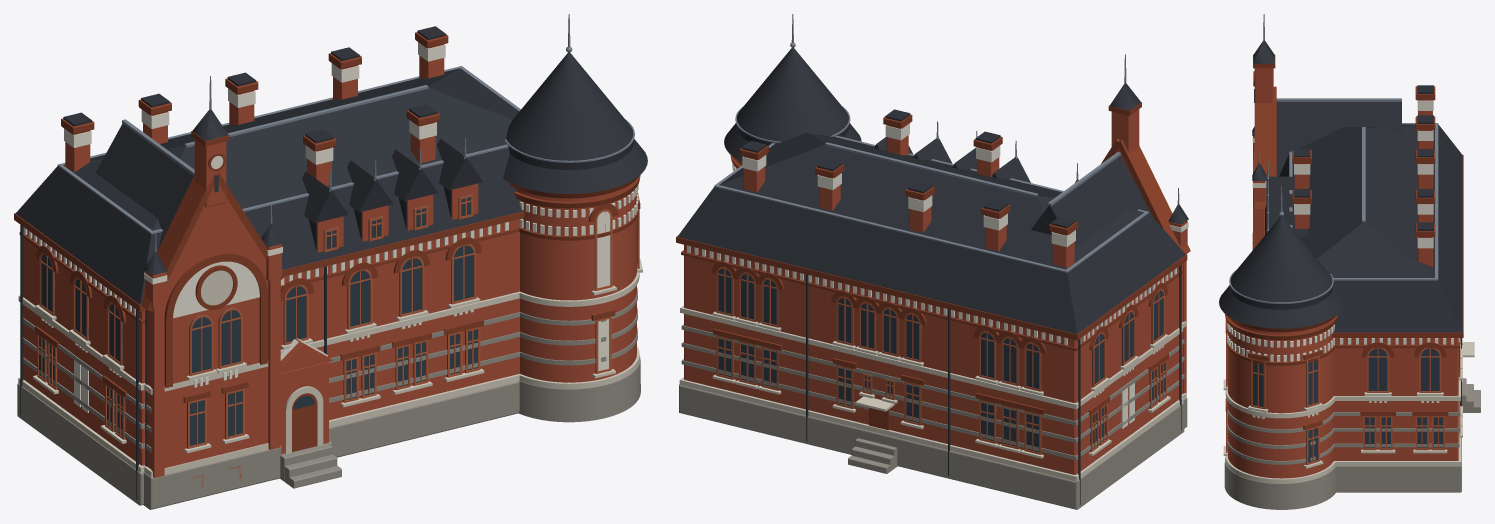
File: Lyk_museo.glb
3 views of the same model, side by side, from view 1: azimuth 30°, elevation 25°; view 2: azimuth 150°, elevation 25°; view 3: azimuth 270°, elevation 25° (orthographic). The views are drawn at different scales.
Visible parts, largest first — view 1: katto_liuske, seinat_tiili, paaty_tiili, perusta_graniitti, torni_tiili, tornin_katto_liuske, ikkunankarmit_katto_punainen, ikkunalasit_lasi, vyohykkeet_rappaus, koristetiilet_tiili_tumma, raystas_tiili_tumma, kattoikkunat_liuske (+20 smaller); view 2: katto_liuske, seinat_tiili, perusta_graniitti, ikkunalasit_lasi, ikkunankarmit_katto_punainen, tornin_katto_liuske, vyohykkeet_rappaus, vyohykkeet_graniitti, raystas_tiili_tumma, koristetiilet_tiili_tumma, kattopellit_katto_harmaa, savupiiput_tiili (+12 smaller); view 3: katto_liuske, torni_tiili, seinat_tiili, tornin_katto_liuske, ikkunalasit_lasi, perusta_graniitti, ikkunankarmit_katto_punainen, raystas_tiili_tumma, torni_graniitti, vyohykkeet_rappaus, vyohykkeet_graniitti, kattopellit_katto_harmaa (+14 smaller).
Boxes of the visible parts, <box> form: katto_liuske: <box>15,68,523,304</box>; seinat_tiili: <box>23,219,519,465</box>; paaty_tiili: <box>147,198,280,477</box>; perusta_graniitti: <box>17,381,519,509</box>; torni_tiili: <box>516,183,636,382</box>; tornin_katto_liuske: <box>503,52,647,193</box>; ikkunankarmit_katto_punainen: <box>37,194,639,488</box>; ikkunalasit_lasi: <box>39,194,638,448</box>; vyohykkeet_rappaus: <box>18,272,639,477</box>; koristetiilet_tiili_tumma: <box>35,193,640,402</box>; raystas_tiili_tumma: <box>14,175,640,323</box>; kattoikkunat_liuske: <box>302,138,483,250</box>; katto_liuske: <box>677,132,1185,334</box>; seinat_tiili: <box>684,244,1179,474</box>; perusta_graniitti: <box>679,384,1187,509</box>; ikkunalasit_lasi: <box>718,269,1165,452</box>; ikkunankarmit_katto_punainen: <box>716,267,1166,454</box>; tornin_katto_liuske: <box>724,47,861,161</box>; vyohykkeet_rappaus: <box>679,305,1186,481</box>; vyohykkeet_graniitti: <box>681,324,1184,460</box>; raystas_tiili_tumma: <box>676,154,1187,350</box>; koristetiilet_tiili_tumma: <box>711,261,1168,415</box>; kattopellit_katto_harmaa: <box>714,135,1149,272</box>; savupiiput_tiili: <box>743,125,1074,268</box>; katto_liuske: <box>1265,102,1462,332</box>; torni_tiili: <box>1227,320,1333,478</box>; seinat_tiili: <box>1333,338,1458,460</box>; tornin_katto_liuske: <box>1219,216,1343,328</box>; ikkunalasit_lasi: <box>1253,348,1459,464</box>; perusta_graniitti: <box>1336,437,1461,492</box>; ikkunankarmit_katto_punainen: <box>1226,333,1460,465</box>; raystas_tiili_tumma: <box>1224,155,1463,365</box>; torni_graniitti: <box>1224,458,1336,509</box>; vyohykkeet_rappaus: <box>1225,341,1461,483</box>; vyohykkeet_graniitti: <box>1227,401,1459,464</box>; kattopellit_katto_harmaa: <box>1276,98,1438,280</box>.
Size of the model in its own units: 29.45 by 22.9 by 16.55.
